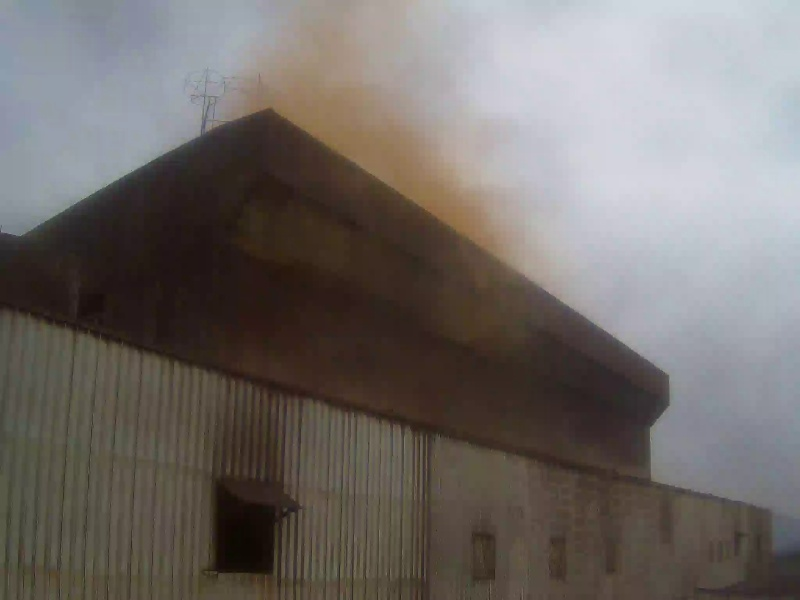Galpao: (1, 303, 672, 600)
Janela: (208, 471, 286, 584)
Pessimo: (288, 4, 383, 71), (291, 85, 382, 118), (399, 128, 442, 170), (430, 169, 473, 211), (233, 55, 265, 91), (350, 133, 391, 159)
